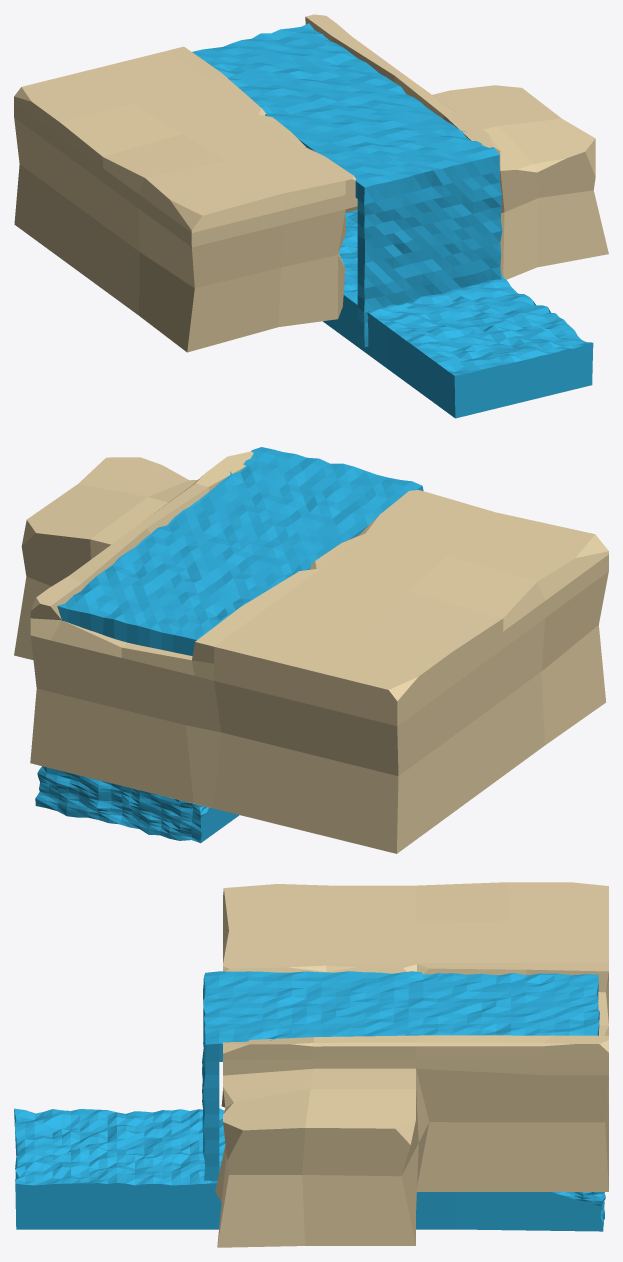
The model's file is bigStructure.fbx.
3 views of the same model, one above another, from view 1: azimuth 30°, elevation 25°; view 2: azimuth 150°, elevation 25°; view 3: azimuth 270°, elevation 25° (orthographic). The views are drawn at different scales.
Parts seen in each view (by area): view 1: Ruin, Water.001, Water; view 2: Ruin, Water.001, Water; view 3: Ruin, Water, Water.001.
Part boxes in pixels (bbox=[...]): Ruin: bbox=[14, 14, 608, 352]; Water.001: bbox=[192, 23, 502, 347]; Water: bbox=[323, 210, 593, 418]; Ruin: bbox=[14, 451, 608, 853]; Water.001: bbox=[57, 447, 423, 655]; Water: bbox=[35, 766, 239, 843]; Ruin: bbox=[215, 882, 608, 1247]; Water: bbox=[14, 1108, 605, 1231]; Water.001: bbox=[202, 971, 599, 1181].
Size of the model in its own units: 6.08 by 2.47 by 6.94.
